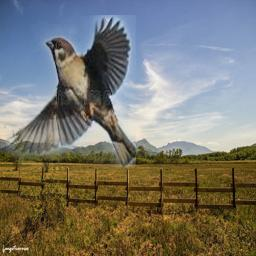Sparrow: (6, 15, 136, 167)
